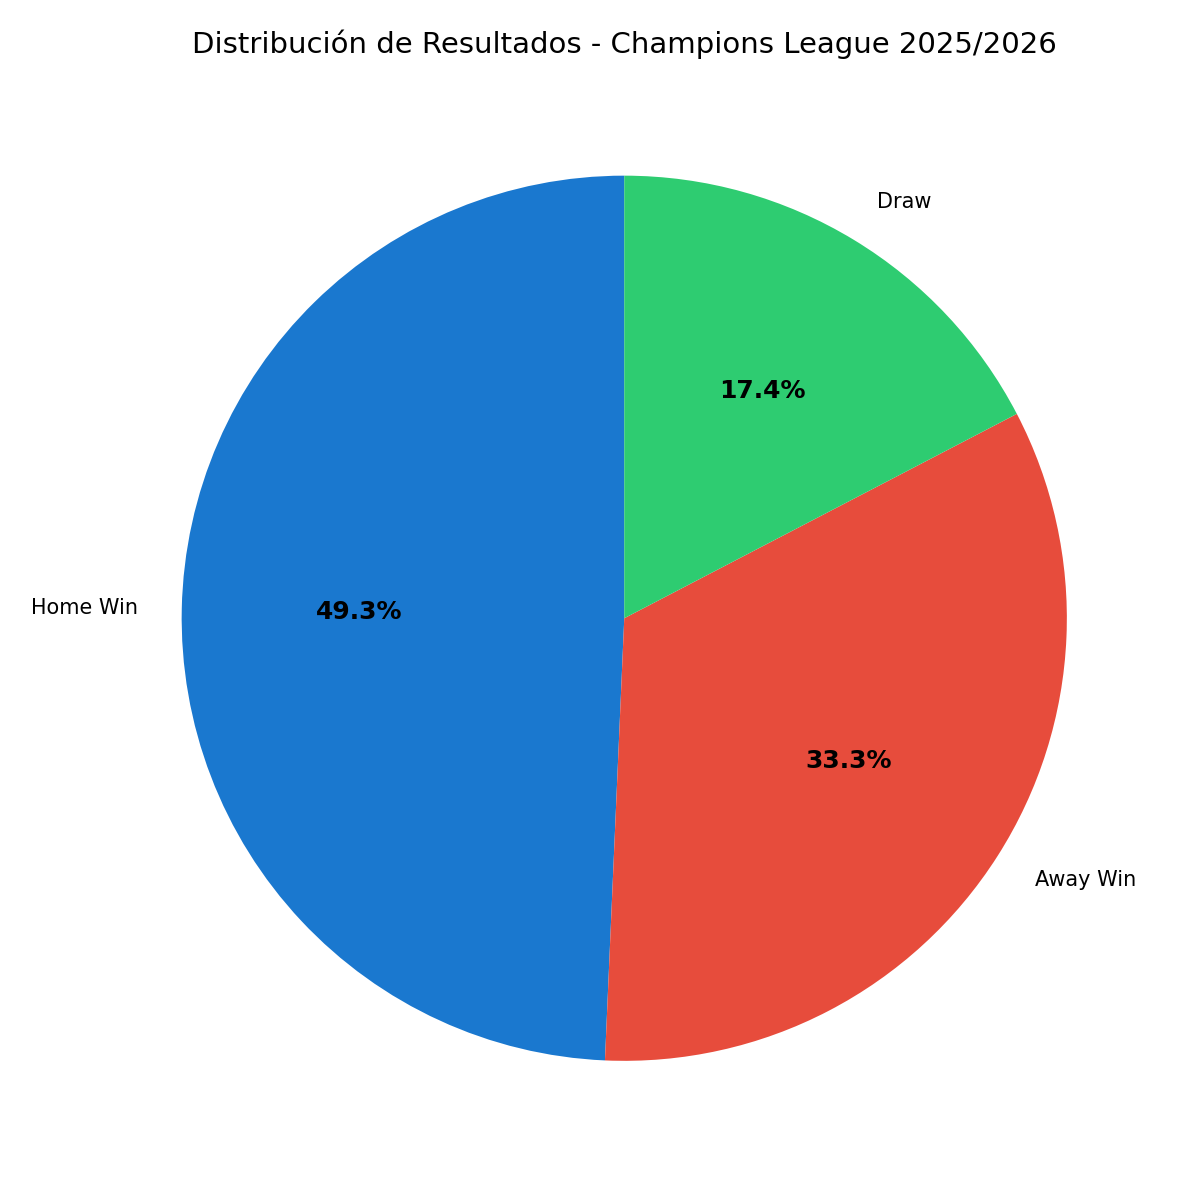

What the dashboard file says about the page in this screenshot:
{"tool":"powerbi","page":{"name":"Gráfico circular: Distribución de resultados","canvas":[1280,720],"ordinal":1},"visuals":[{"type":"pieChart","fields":{"Category":["Tabla1.result"],"Y":["CountNonNull(Tabla1.result)"]},"box":[0,21.8,1236.3,682],"z":0}]}

Visuals, with their boxes on the page's 1280x720 design canvas (x1, y1, x2, y2). These are canvas units, not pixel positions in the 1200x1200 screenshot, which may show the page scaled, cropped or inside an application window:
pieChart - Tabla1.result x CountNonNull(Tabla1.result): select_region(0, 22, 1236, 704)
